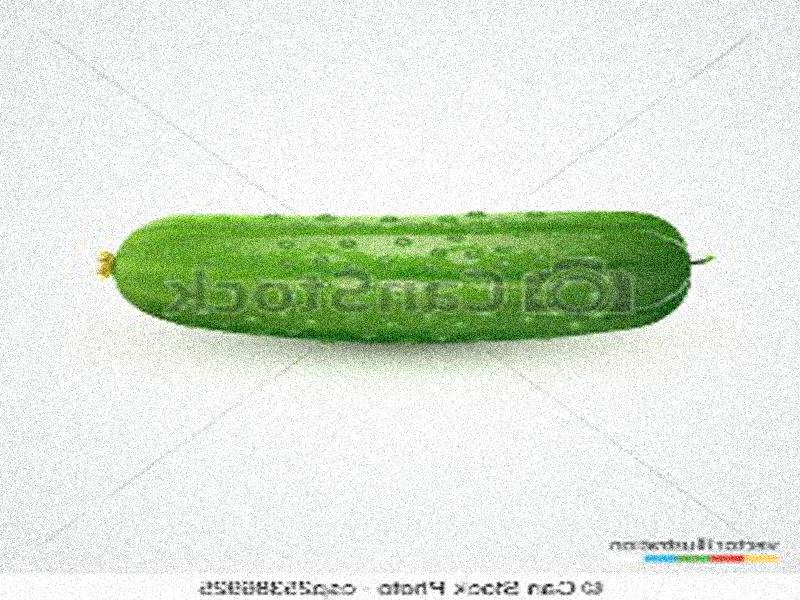Cucumber: (94, 209, 714, 341)
